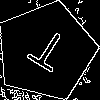T: (21, 26, 72, 82)
